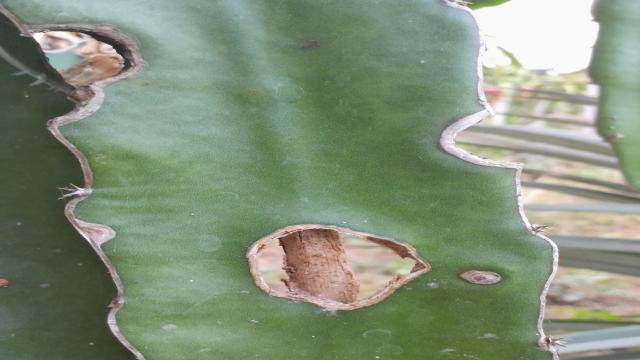stemcanker: (456, 267, 504, 289)
